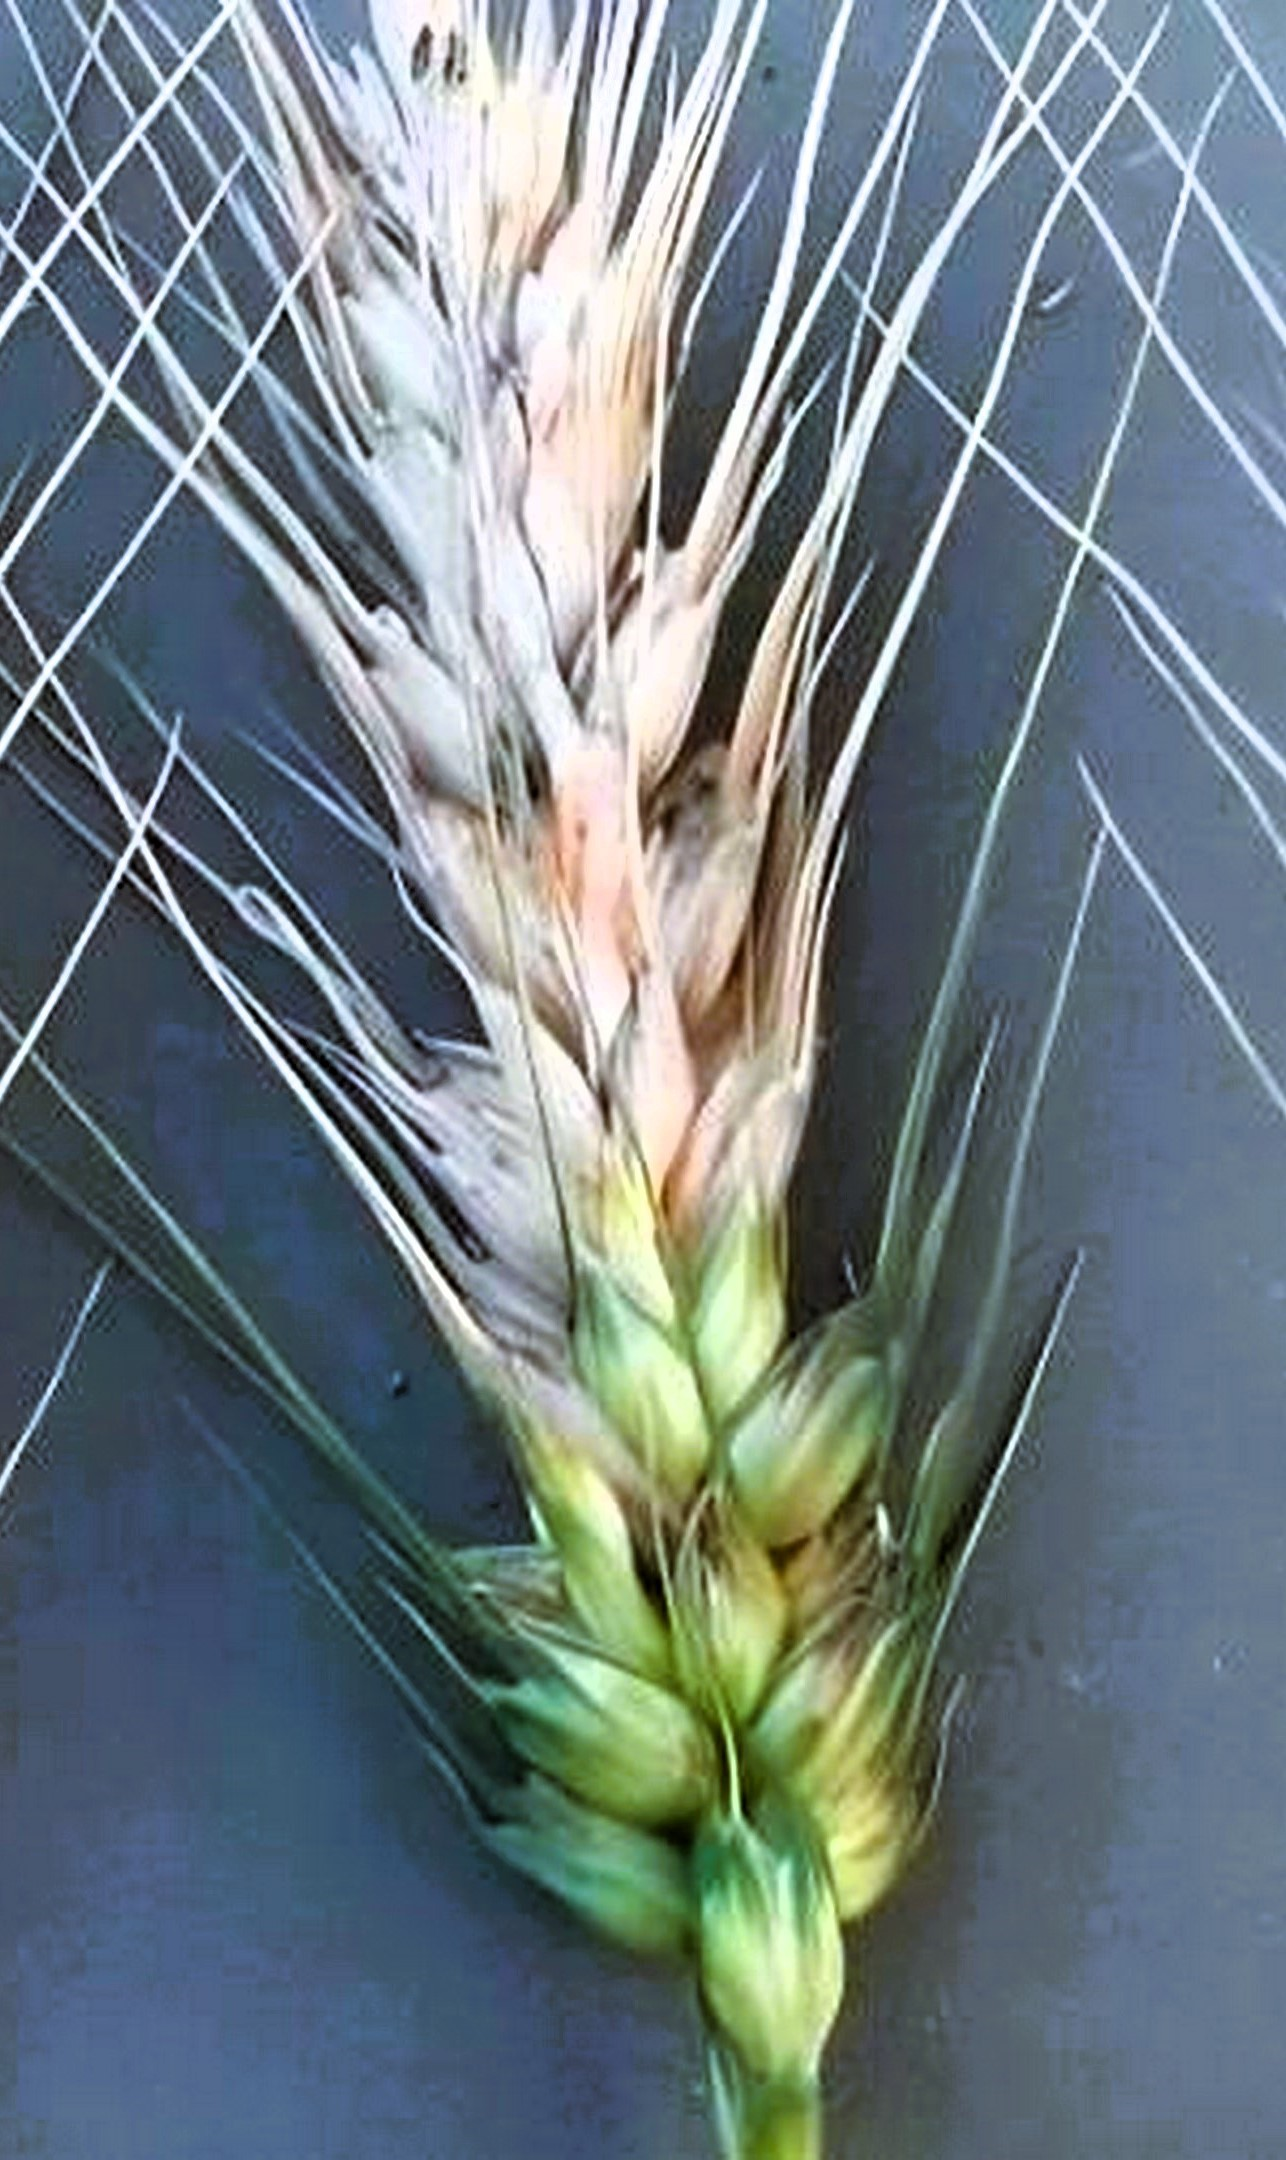Wheat scab: (246, 44, 958, 1920)
